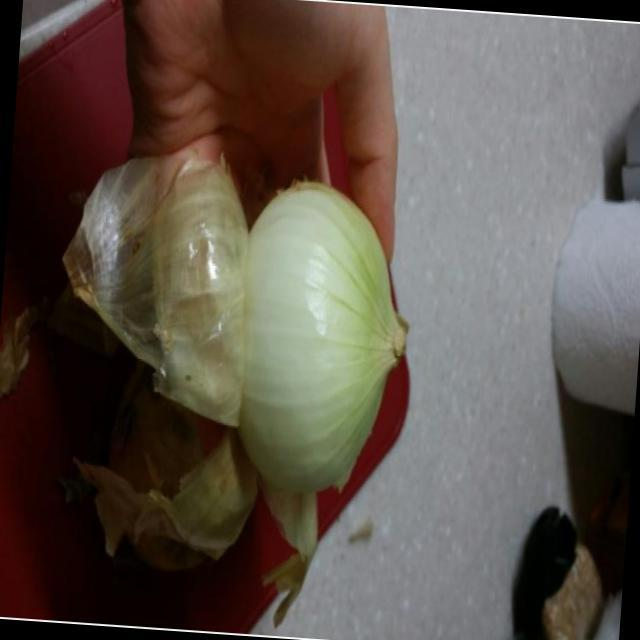Onion: (245, 182, 400, 490)
